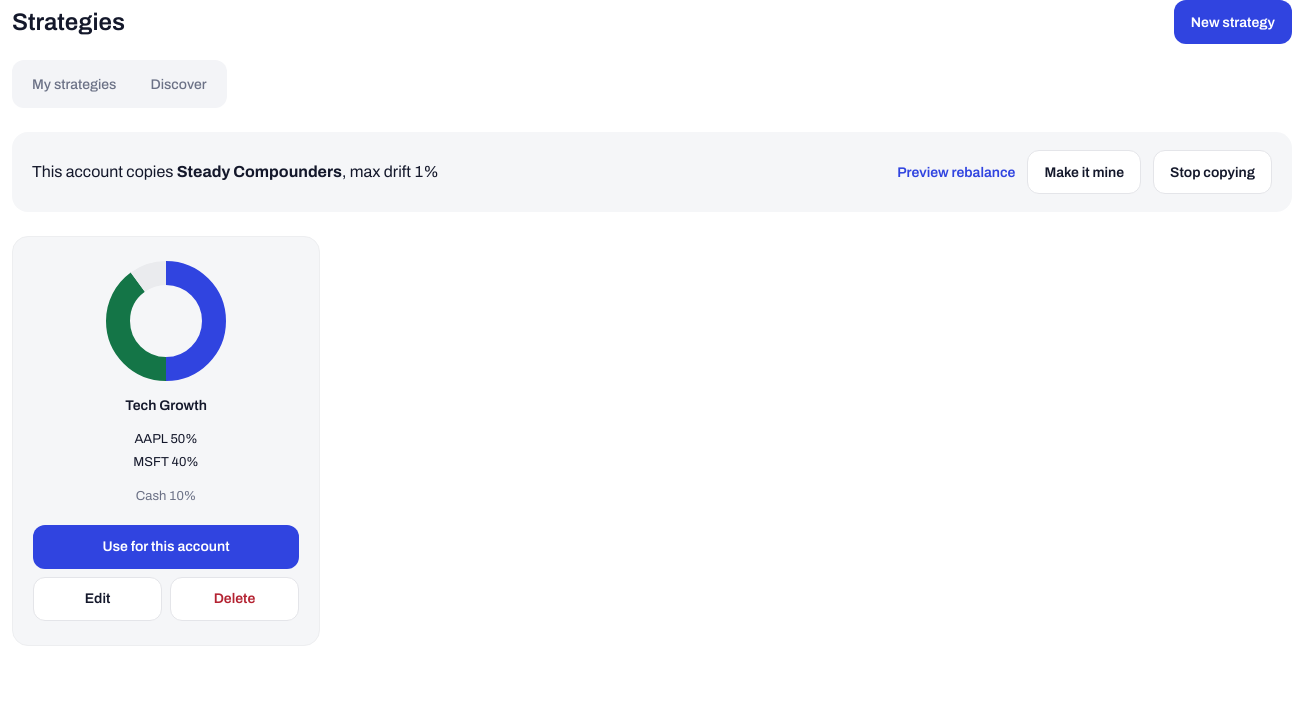
Scenario: PiesComponent › a copied pie › makes the pie the user's own and reloads
This screenshot has width=1292, height=720.
What coordinates should you click on to do the following:
click the button "Make it mine"
I would click on:
 (1084, 172)
Its box is [1027,150,1141,194].
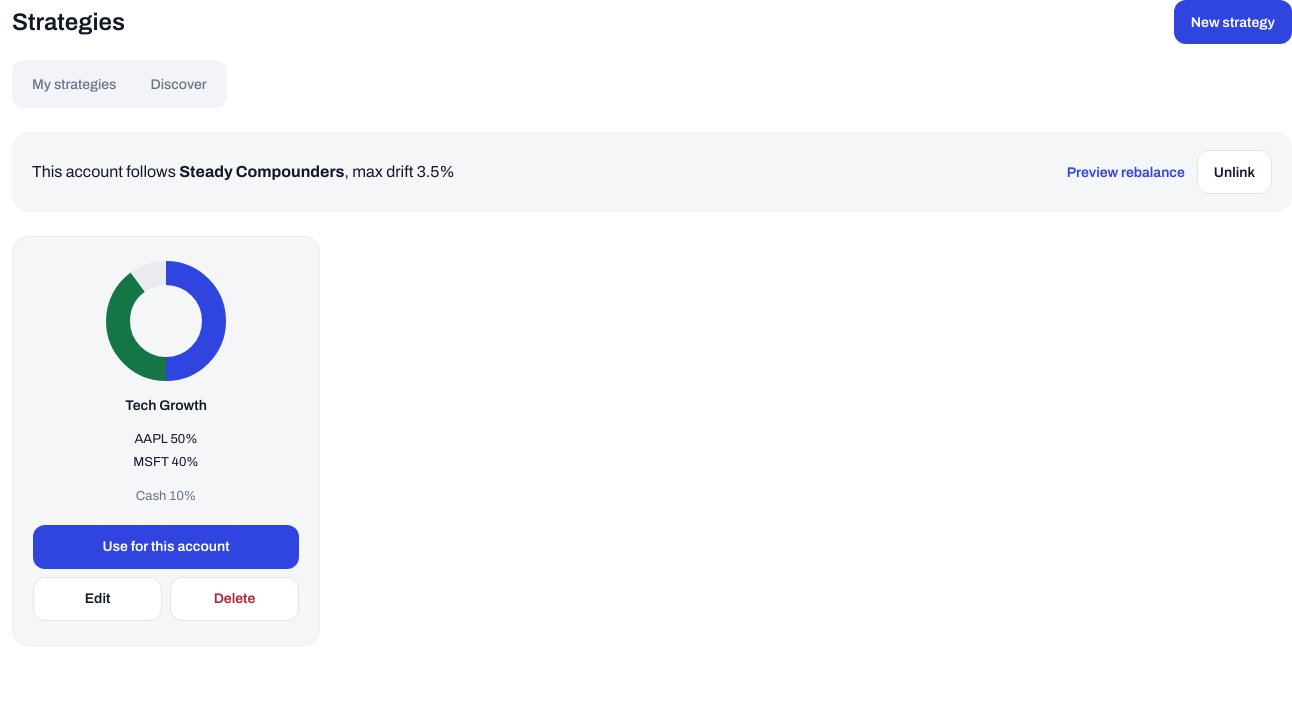
expect the element with class "header" shows "This account follows": met, box [32,163,179,180]
